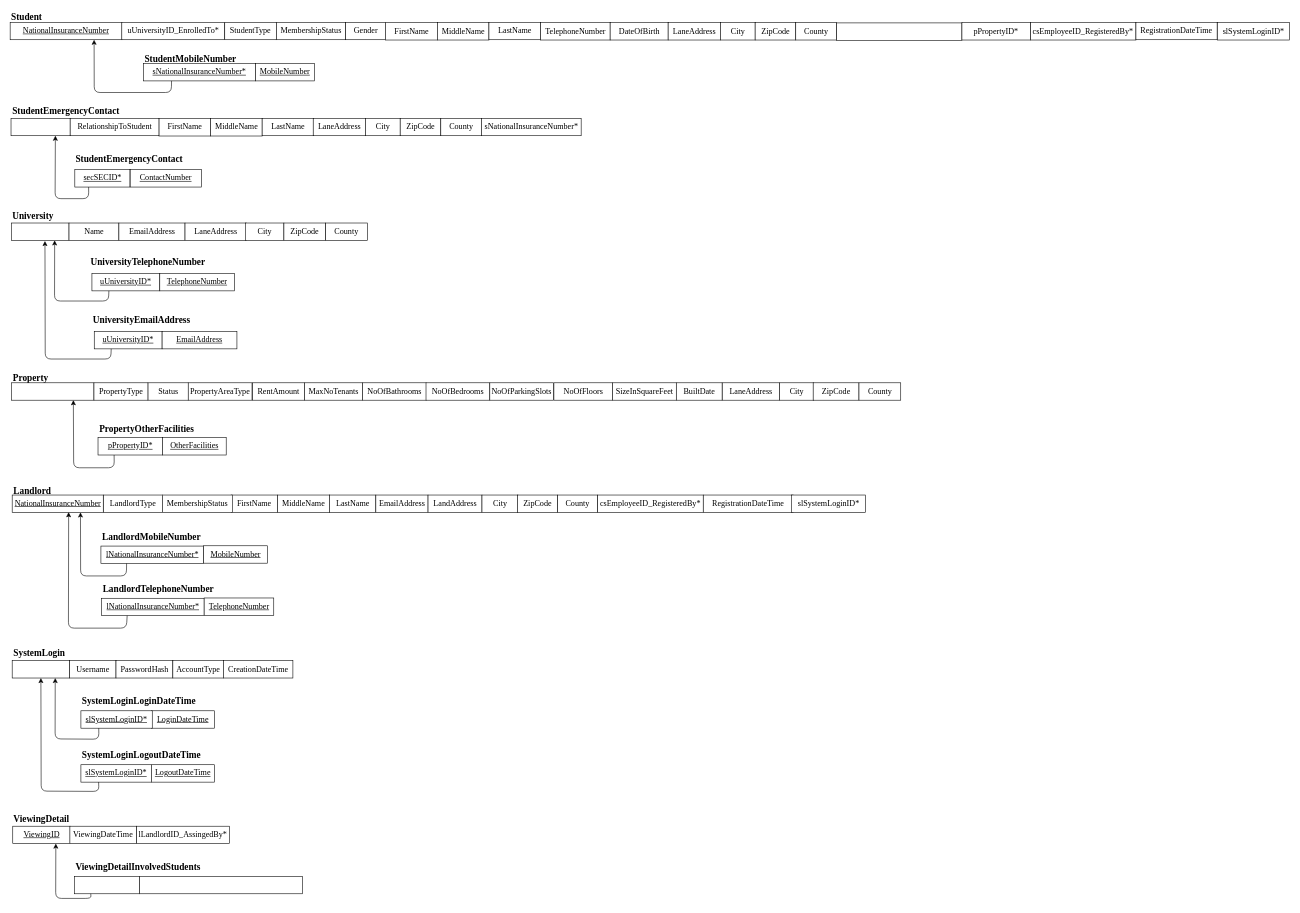
This 1300x913 diagram has some shape labels left out. Each missing label, with the centre of its shape:
EstimatedProgramCompletionDate: the point at 899,31
PropertyID: the point at 52,391
SECID: the point at 40,127
sNationalInsuranceNumber_InvolvedStudents *: the point at 220,885
SystemLoginID: the point at 41,669
UniversityID: the point at 40,231
vdViewingID*: the point at 106,885
